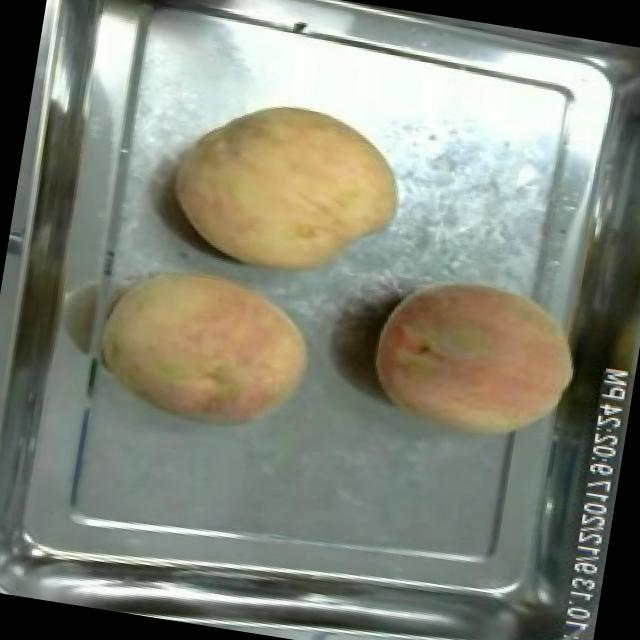Fruit: (158, 79, 418, 298), (356, 257, 594, 460), (90, 247, 328, 445)
